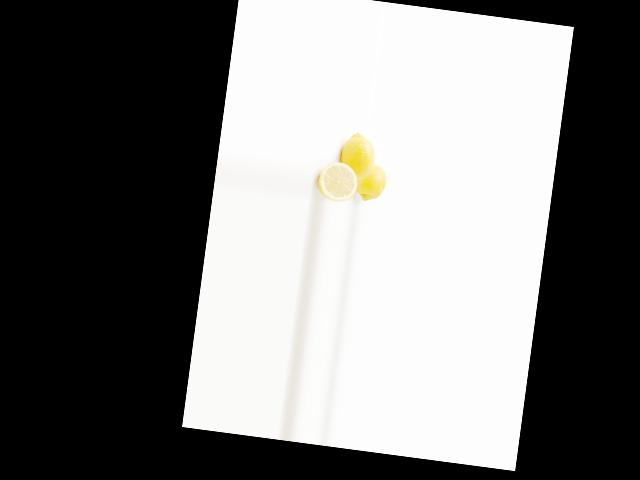lemon: (353, 159, 390, 206)
